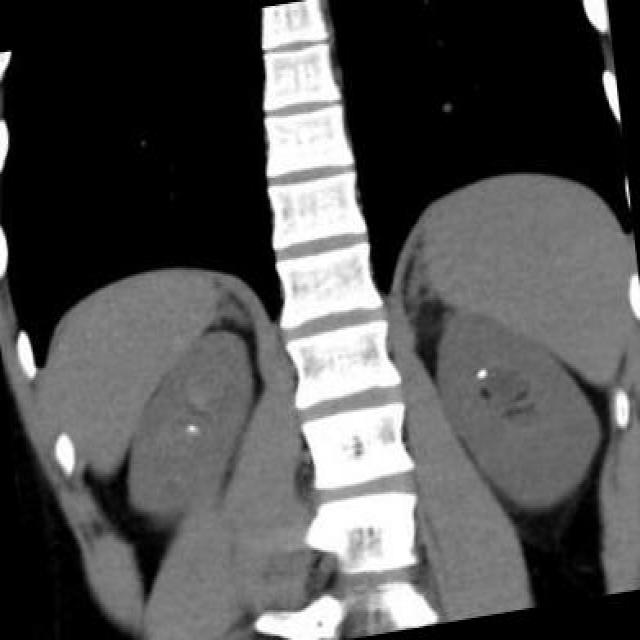Tas_Var: (183, 420, 205, 440), (470, 364, 492, 384)
